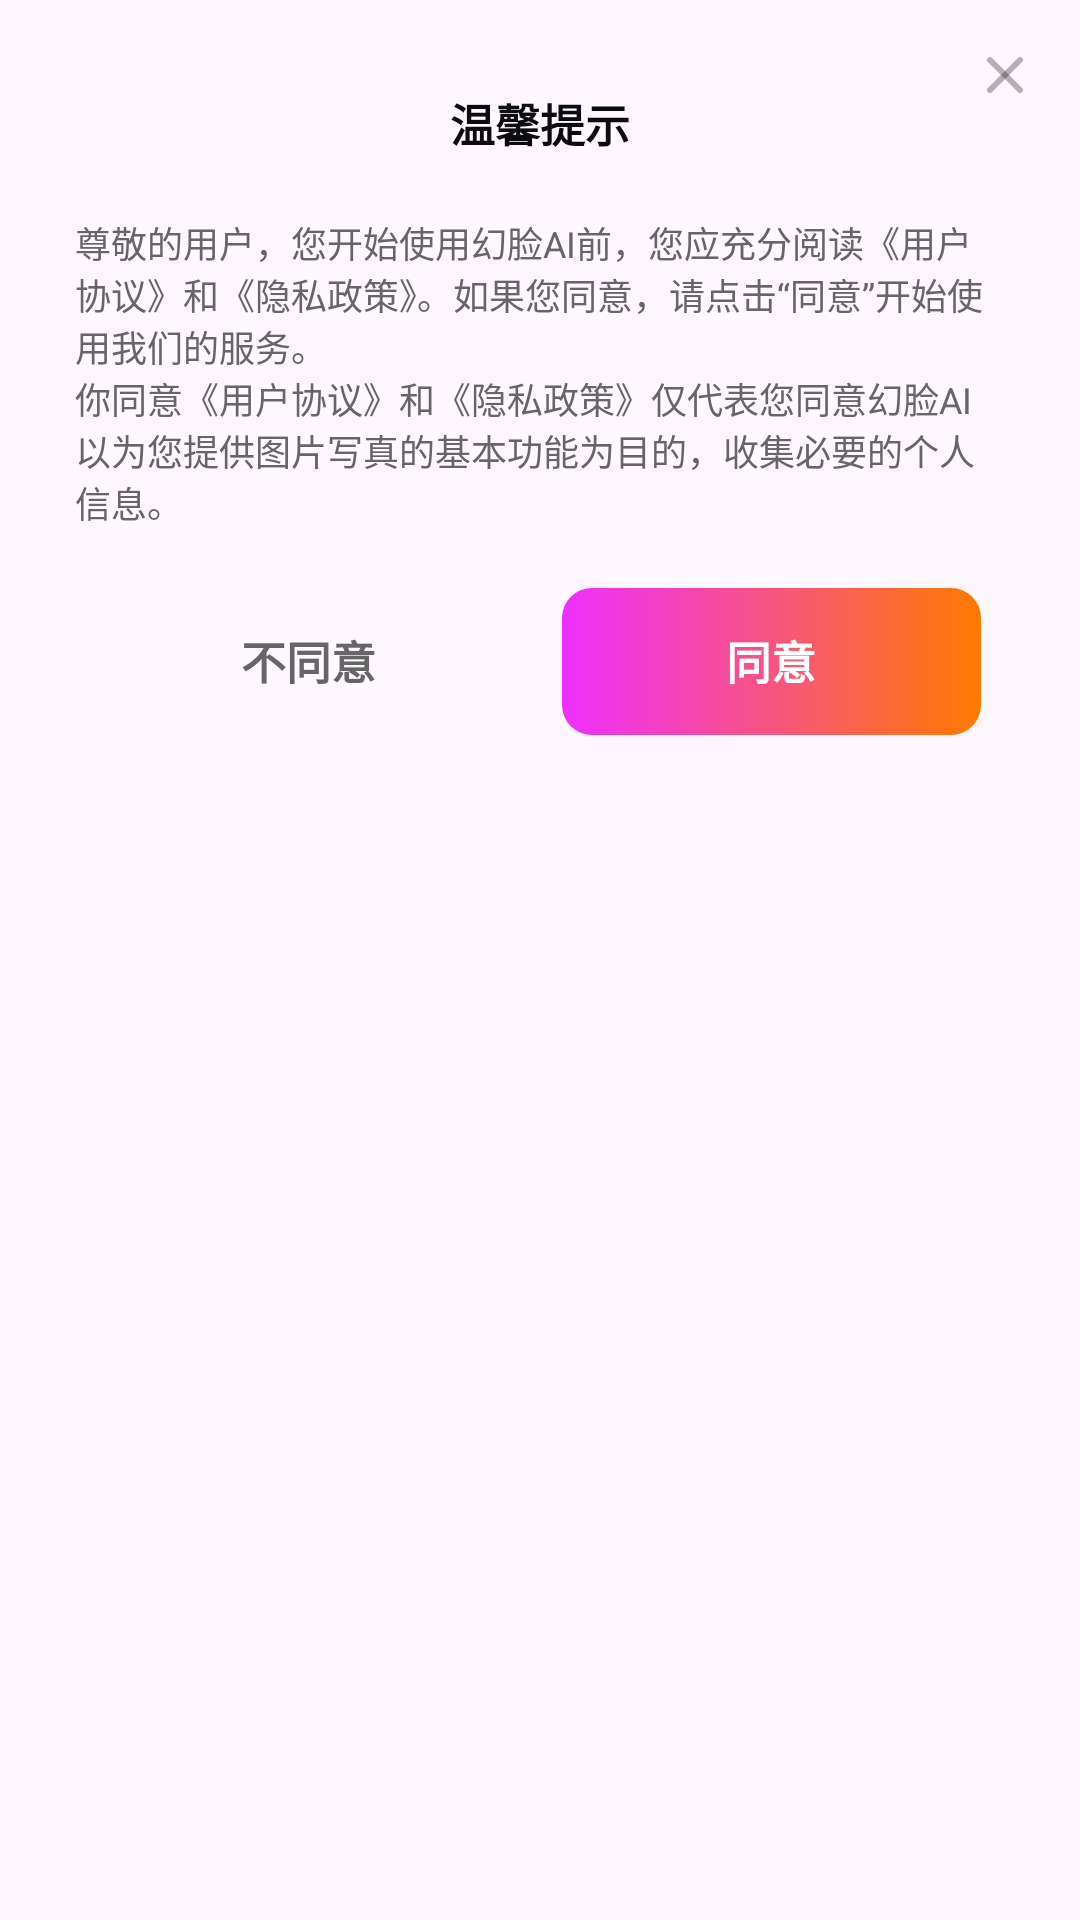

Screen size 1080x1920. Icon name, then its center in pixels as (x,y):
close: (1005,75)
